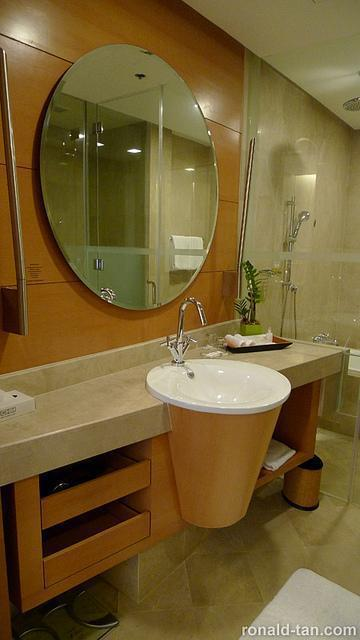Ducha: (255, 66, 359, 433)
Lavamanos: (144, 291, 293, 423)
